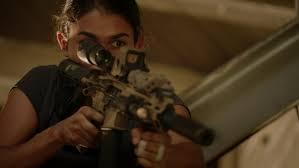rifle: (62, 40, 215, 168)
